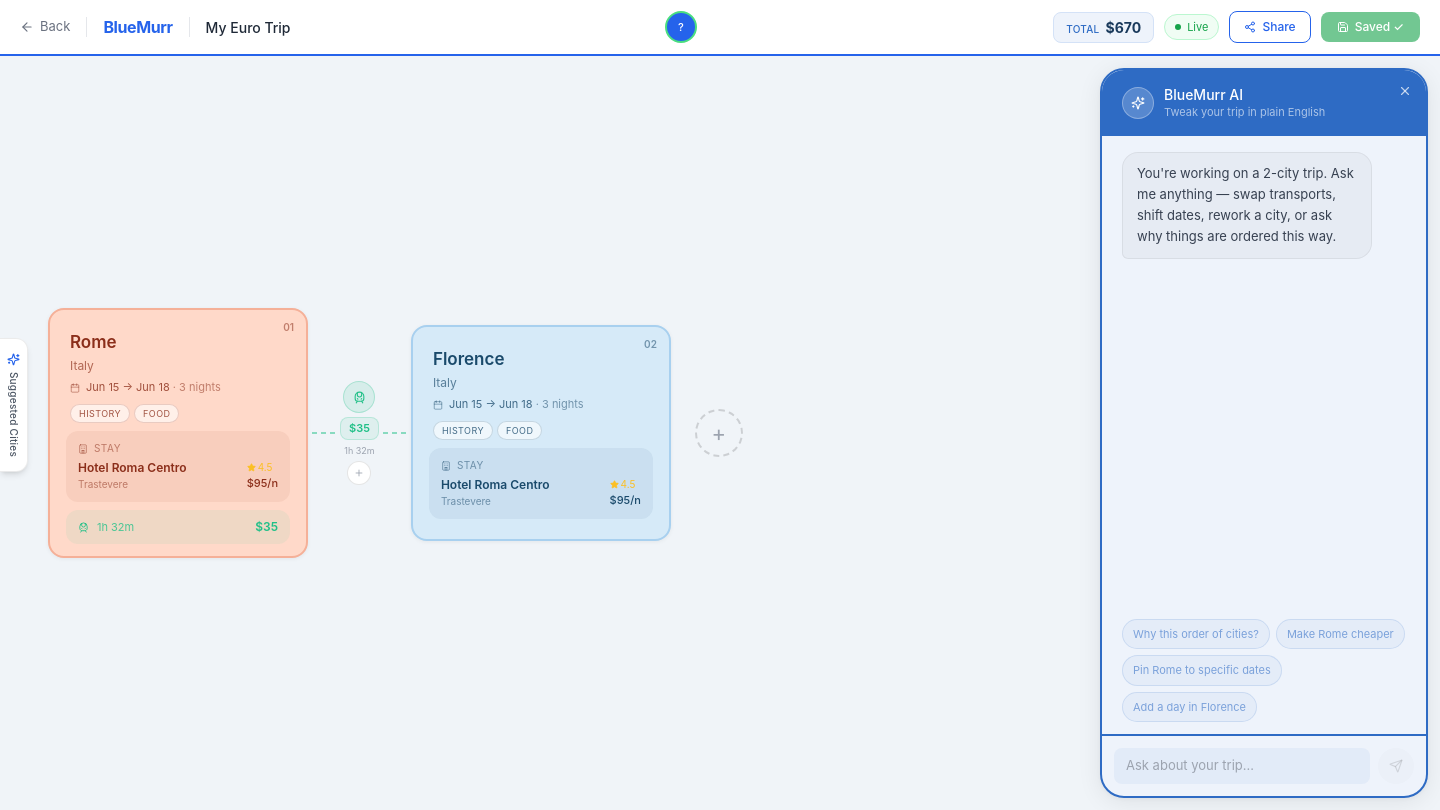
CanvasPage › Share button opens the share dialog with link access modes
Click the button "Share" at [1270, 27], box 1229,11 -> 1311,43
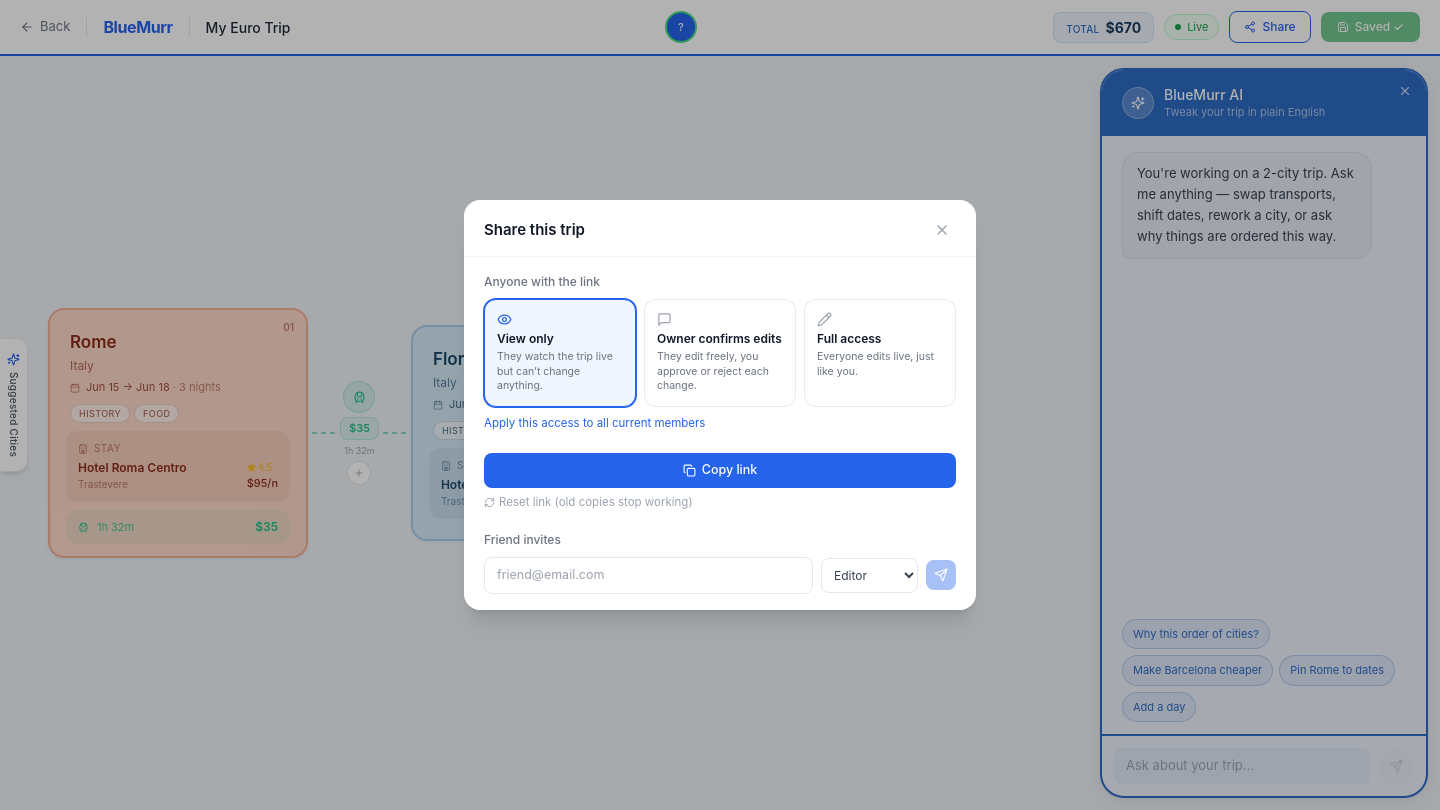
Expected: the heading "Share this trip" is shown, 484,219 -> 585,242
Expected: the text "View only" is shown, 497,332 -> 554,346
Expected: the text "Owner confirms edits" is shown, 657,332 -> 782,346
